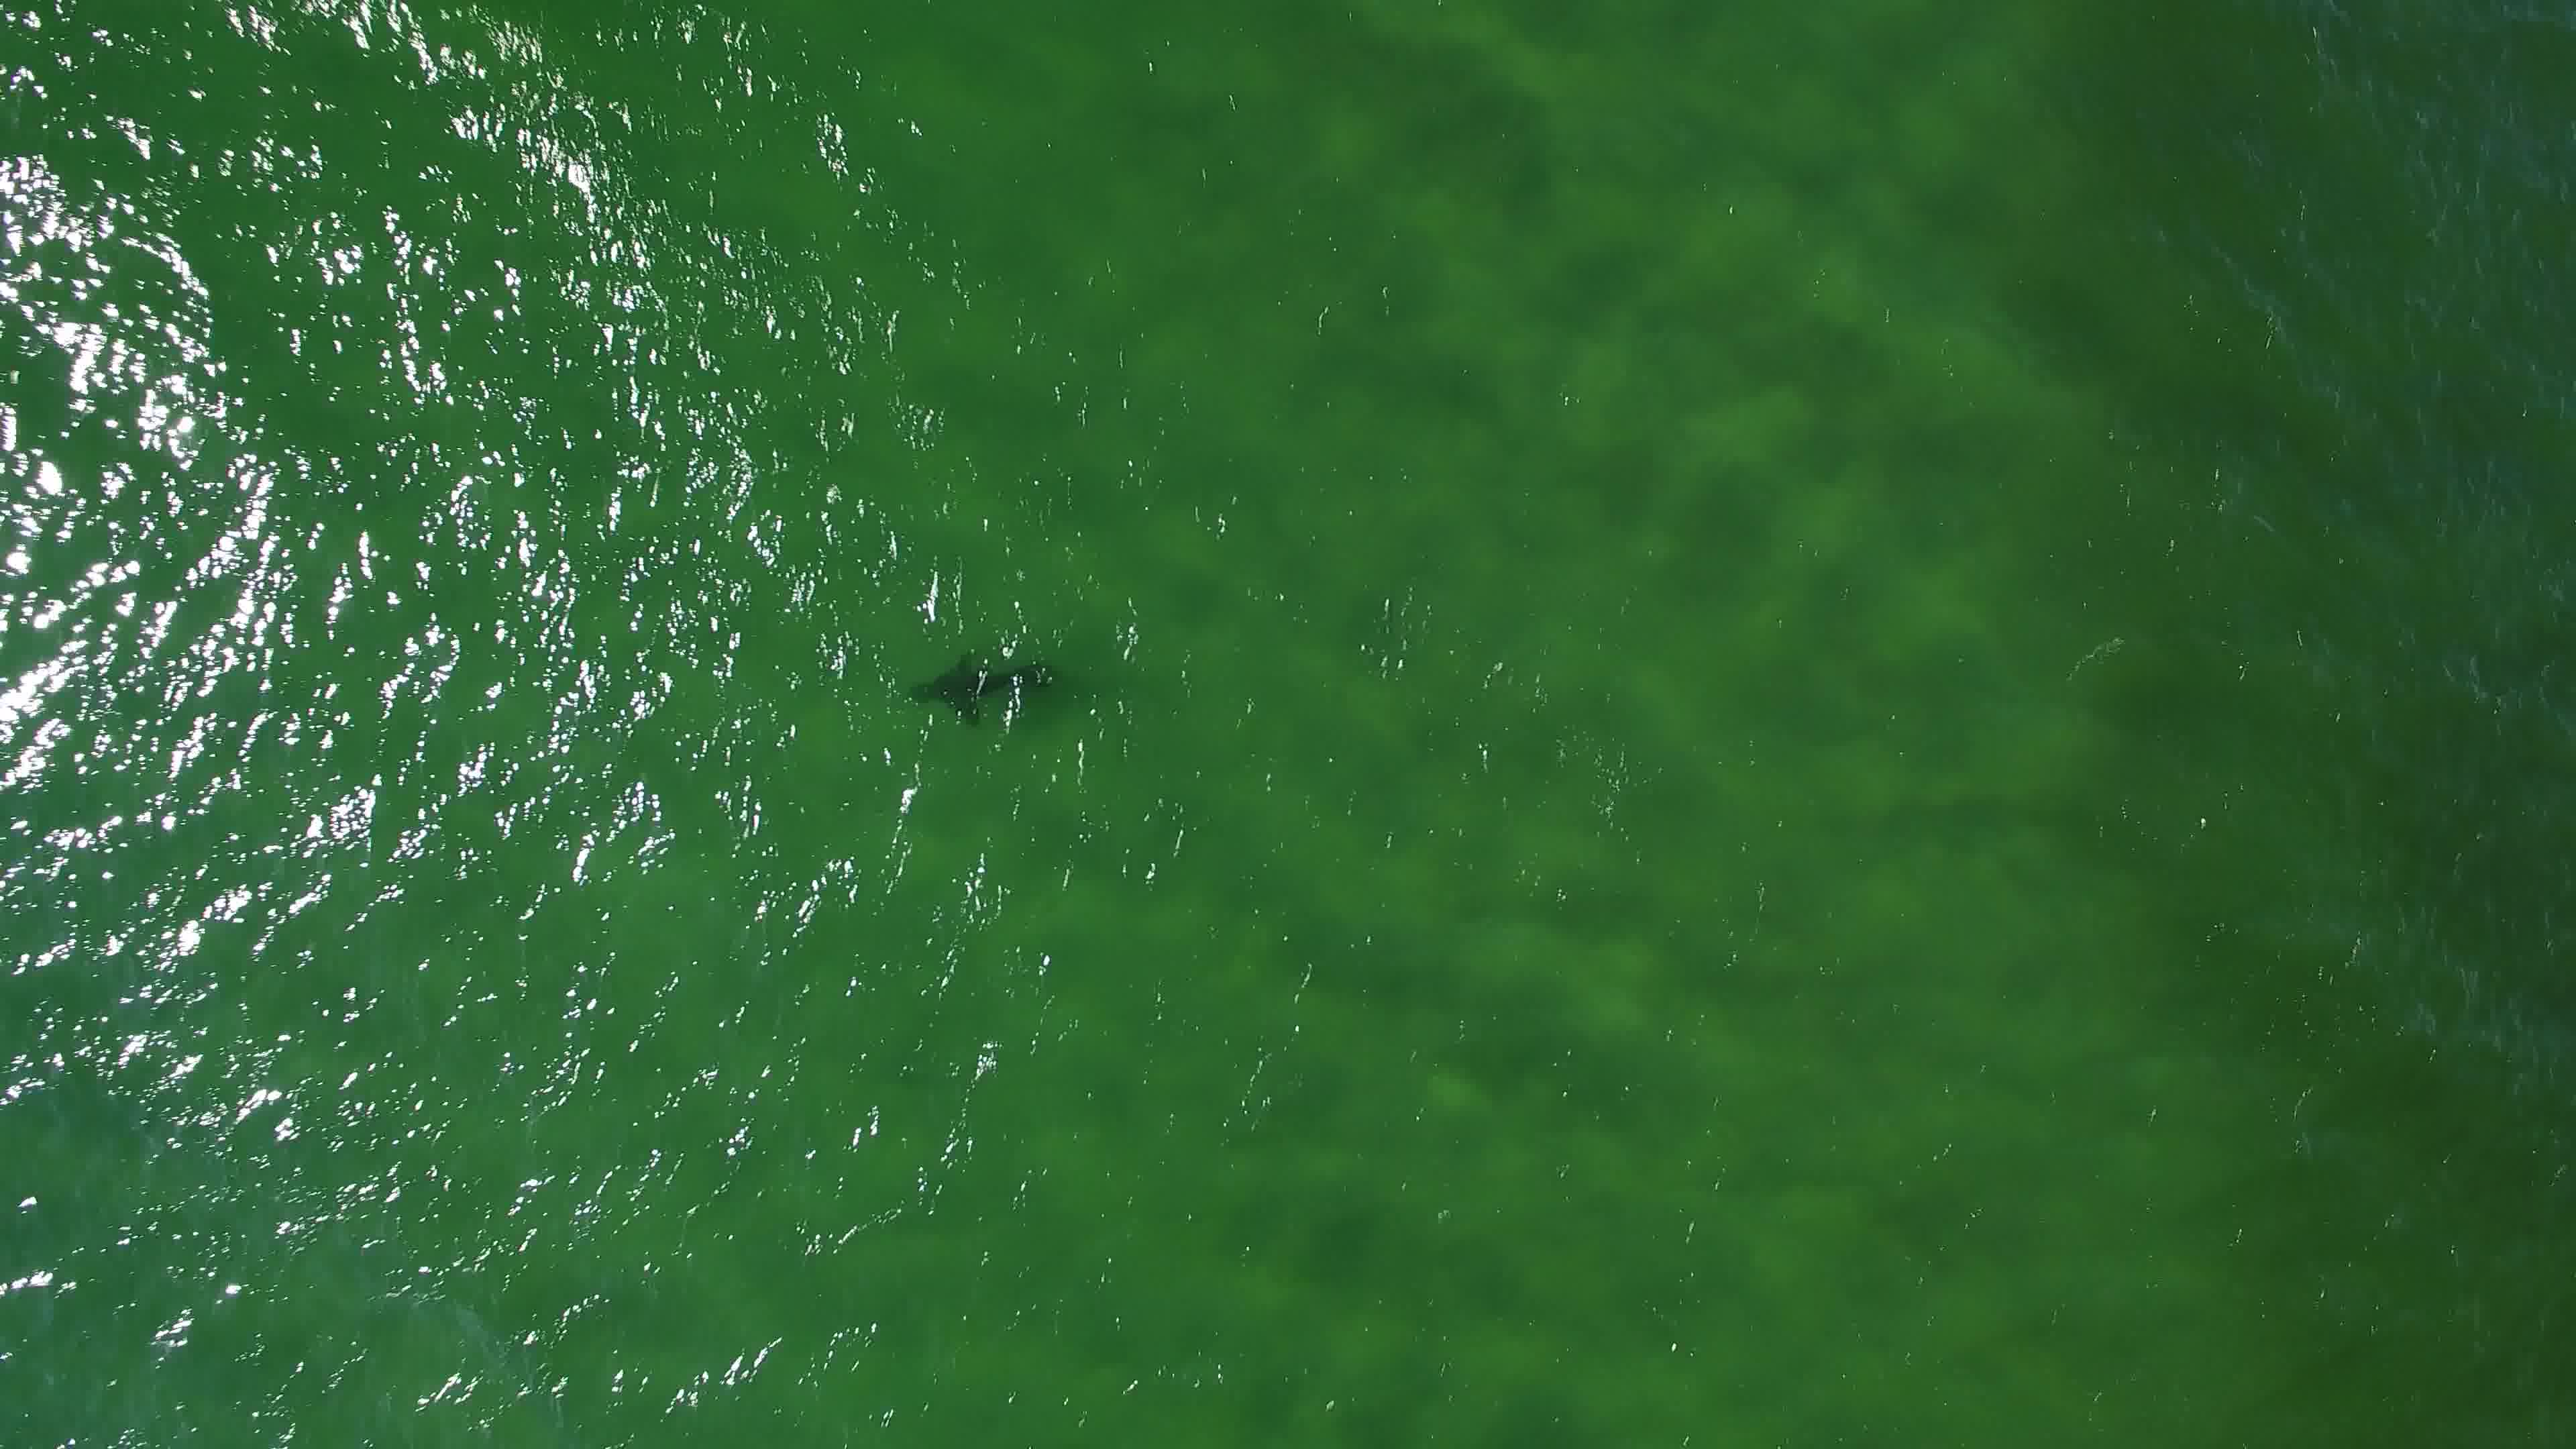shark: (899, 644, 1060, 731)
